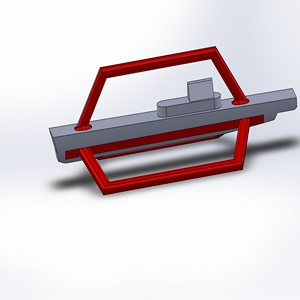submarine: (22, 22, 300, 193)
